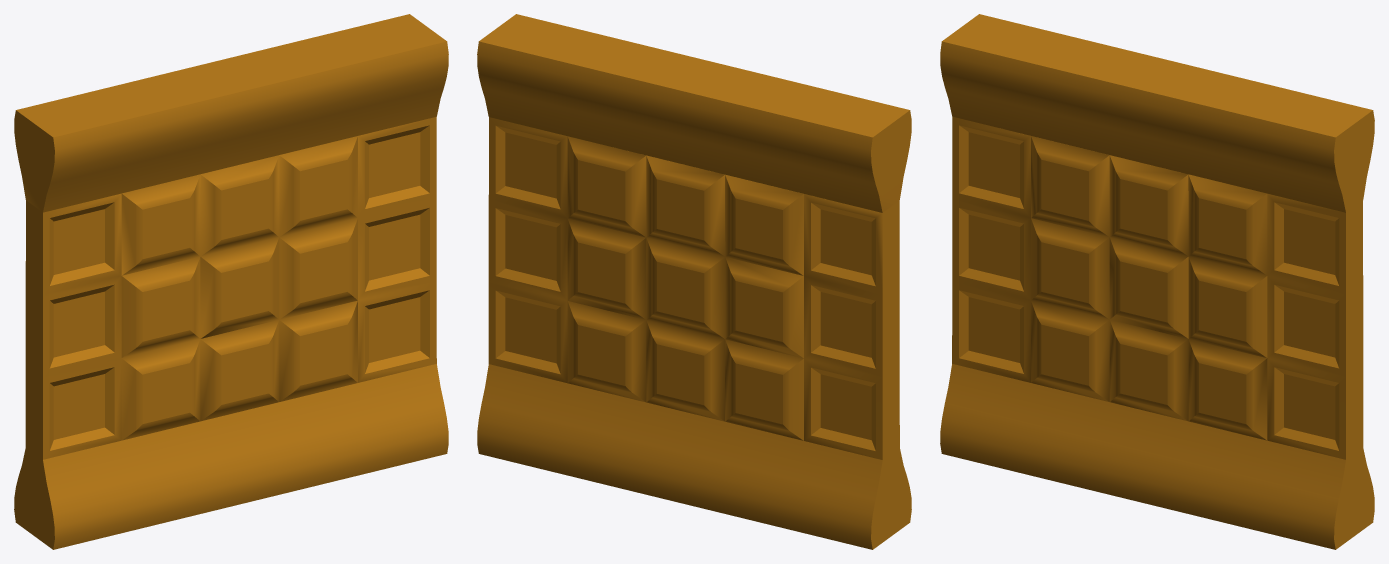
Rendered from stone_wall_2_4x4.fbx.
3 renders of one model, left to right at view 1: azimuth 30°, elevation 25°; view 2: azimuth 150°, elevation 25°; view 3: azimuth 330°, elevation 25°, orthographic.
Visible parts, largest first — view 1: stone_wall_2_4x4; view 2: stone_wall_2_4x4; view 3: stone_wall_2_4x4.
Part boxes in pixels (x1,y1,x2,y2): stone_wall_2_4x4: (14,14,448,549); stone_wall_2_4x4: (477,14,911,549); stone_wall_2_4x4: (940,14,1374,549).
Size of the model in its own units: 18.2 by 18.21 by 3.26.
